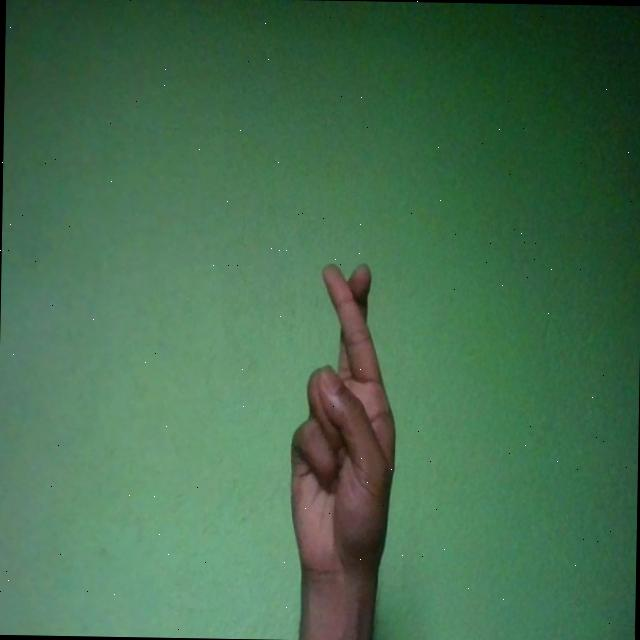Ok: (288, 264, 398, 586)
